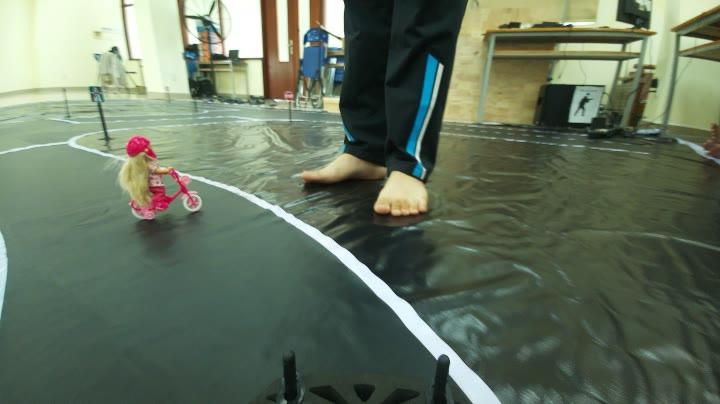pedestrian: (107, 138, 216, 222)
